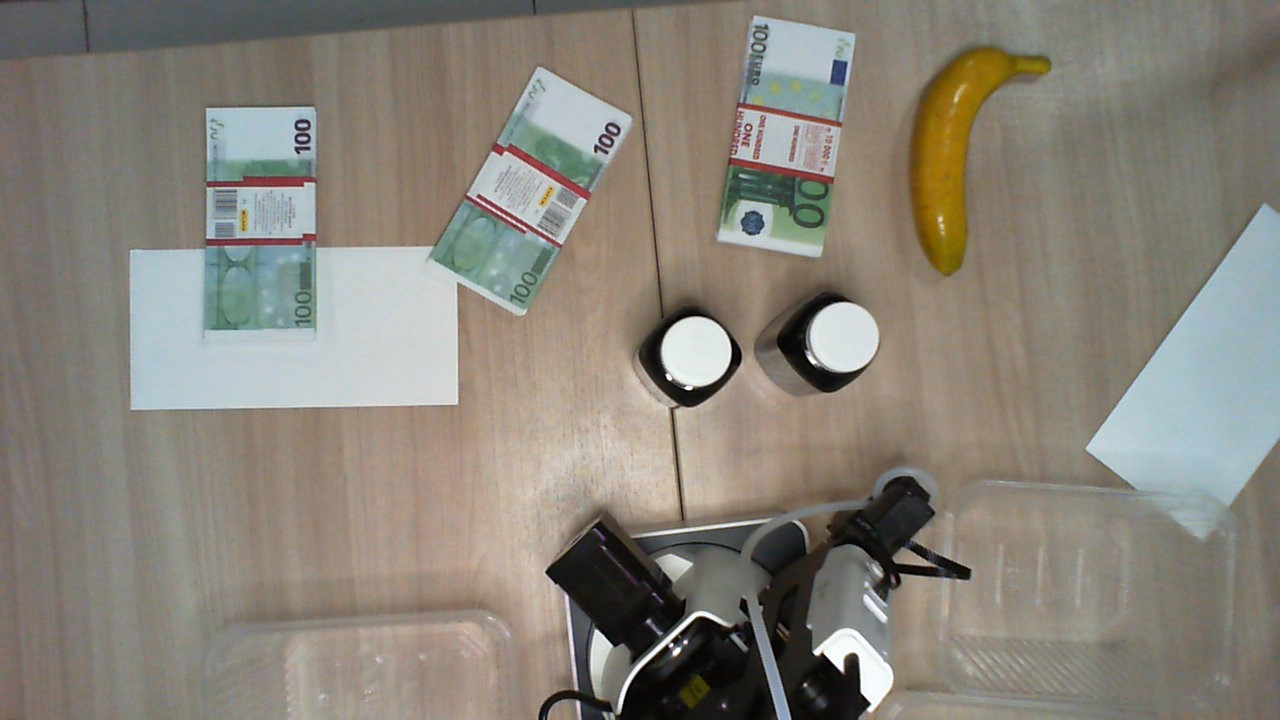banana: (908, 45, 1050, 275)
bottle: (130, 245, 461, 412), (776, 290, 880, 391), (638, 305, 740, 404)
convert: (1085, 200, 1280, 537)
money: (428, 65, 633, 315), (718, 15, 856, 260), (203, 105, 316, 340)
